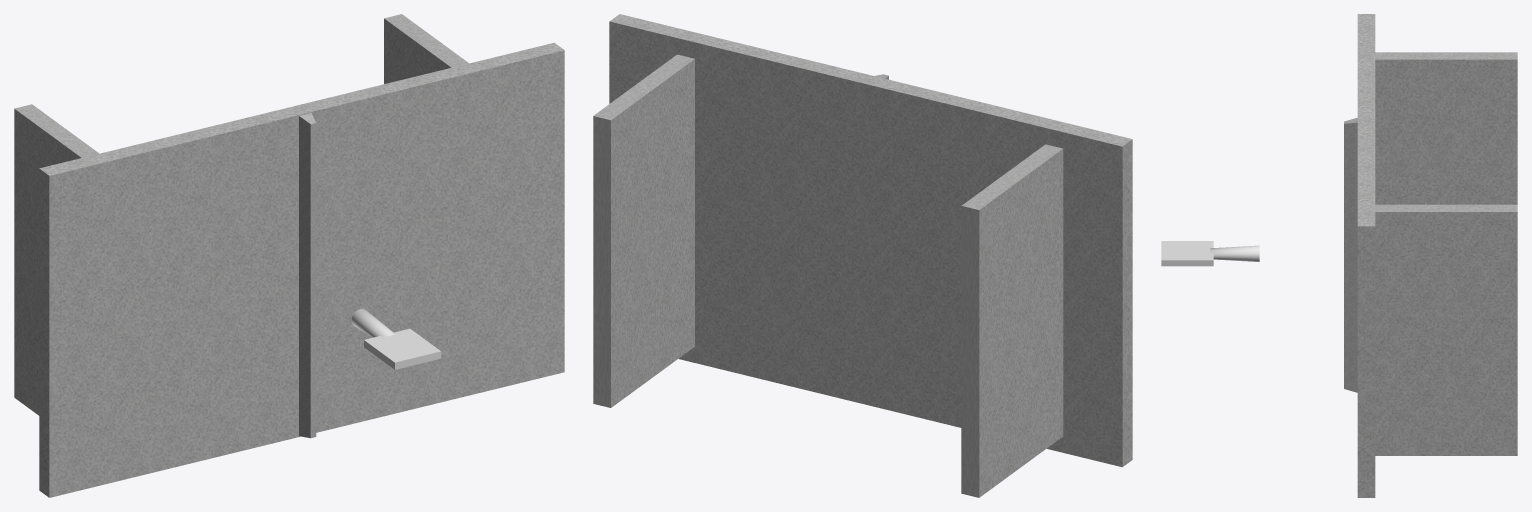
Rendered from table tennis place holder rec 2.0.fbx.
3 views of the same model, side by side, from view 1: azimuth 30°, elevation 25°; view 2: azimuth 150°, elevation 25°; view 3: azimuth 270°, elevation 25° (orthographic). The views are drawn at different scales.
Visible parts, largest first — view 1: Cube.002, Cube.001, Cube.003, Cube, Cylinder; view 2: Cube.002, Cube.001; view 3: Cube.001, Cube.002, Cube.003, Cube, Cylinder.
Part boxes in pixels (x1,y1,x2,y2): Cube.002: (39, 42, 564, 497); Cube.001: (14, 14, 468, 415); Cube.003: (299, 113, 316, 438); Cube: (364, 328, 441, 369); Cylinder: (351, 309, 395, 337); Cube.002: (609, 14, 1132, 467); Cube.001: (593, 54, 1063, 497); Cube.001: (1375, 52, 1517, 455); Cube.002: (1357, 14, 1375, 497); Cube.003: (1344, 117, 1357, 392); Cube: (1161, 241, 1213, 266); Cylinder: (1210, 245, 1259, 261).
Size of the model in its own units: 6.98 by 4.17 by 4.95.
Materials: 3 (3 with a texture image).
